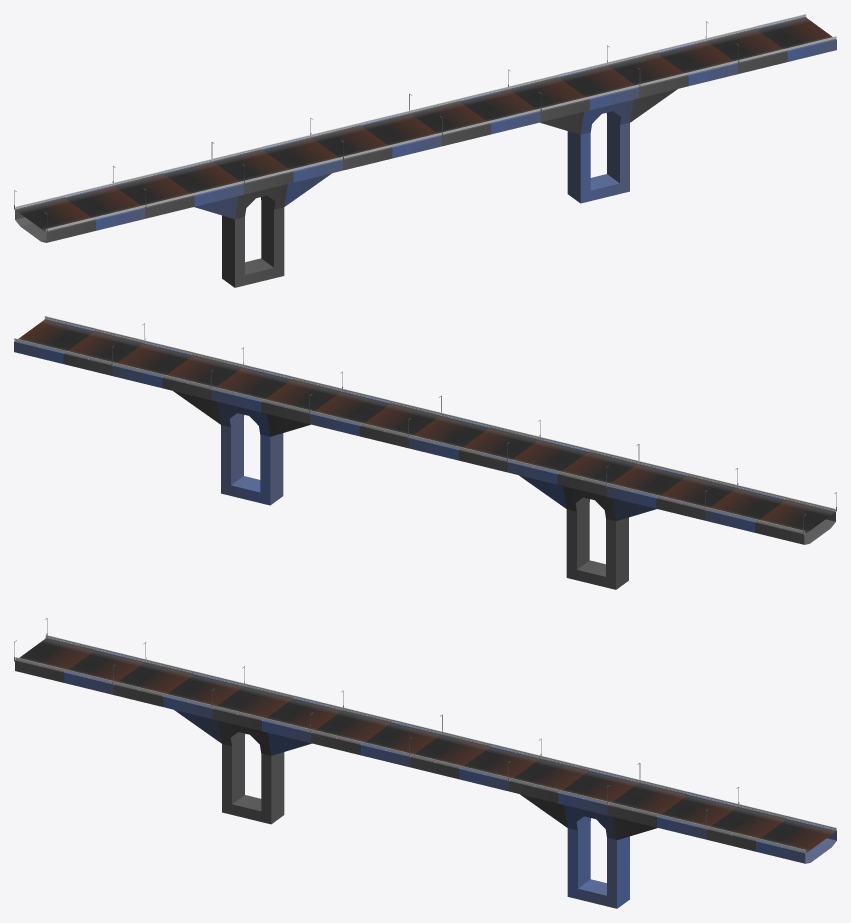
The model's file is HighwayBridge1.fbx.
3 renders of one model, top to bottom at view 1: azimuth 30°, elevation 25°; view 2: azimuth 150°, elevation 25°; view 3: azimuth 330°, elevation 25°, orthographic.
Parts seen in each view (by area): view 1: HighwayBridge1; view 2: HighwayBridge1; view 3: HighwayBridge1.
Boxes of the visible parts, x1,y1,x2,y2 form: HighwayBridge1: [14, 14, 836, 287]; HighwayBridge1: [14, 316, 836, 589]; HighwayBridge1: [14, 618, 836, 908].
Size of the model in its own units: 400 by 62.5 by 29.08.
